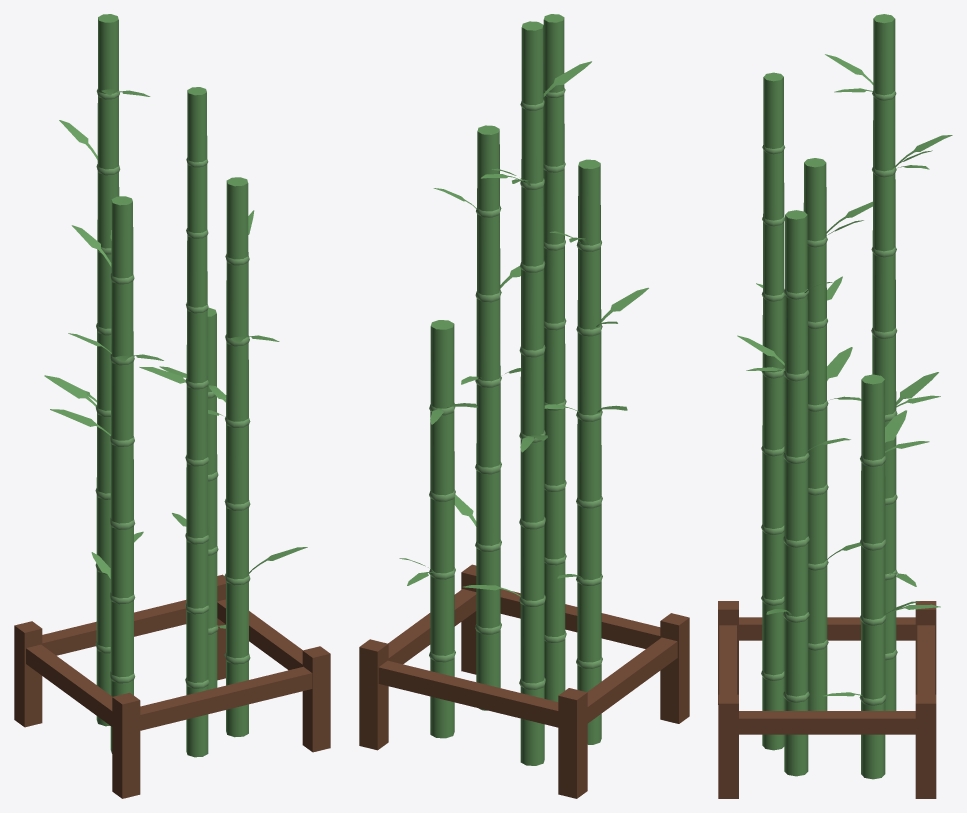
File: SM_BambooBehindTheFence_01.gltf
3 renders of one model, left to right at view 1: azimuth 30°, elevation 25°; view 2: azimuth 150°, elevation 25°; view 3: azimuth 270°, elevation 25°, orthographic. The views are drawn at different scales.
Parts seen in each view (by area): view 1: SM_BambooBehindTheFence_01; view 2: SM_BambooBehindTheFence_01; view 3: SM_BambooBehindTheFence_01.
Boxes of the visible parts, box(x1,y1,x2,y2) form: SM_BambooBehindTheFence_01: box(14, 14, 330, 798); SM_BambooBehindTheFence_01: box(359, 14, 689, 798); SM_BambooBehindTheFence_01: box(718, 14, 952, 798).
Bounding box in the file's own units: 0.7138 × 2.22 × 0.6636.
Materials: 1 (1 with a texture image).
